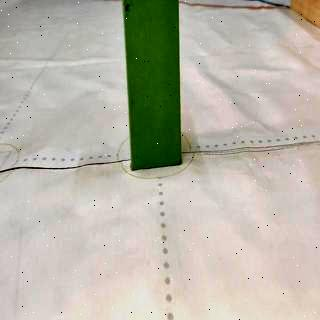greenbox: (122, 0, 185, 178)
